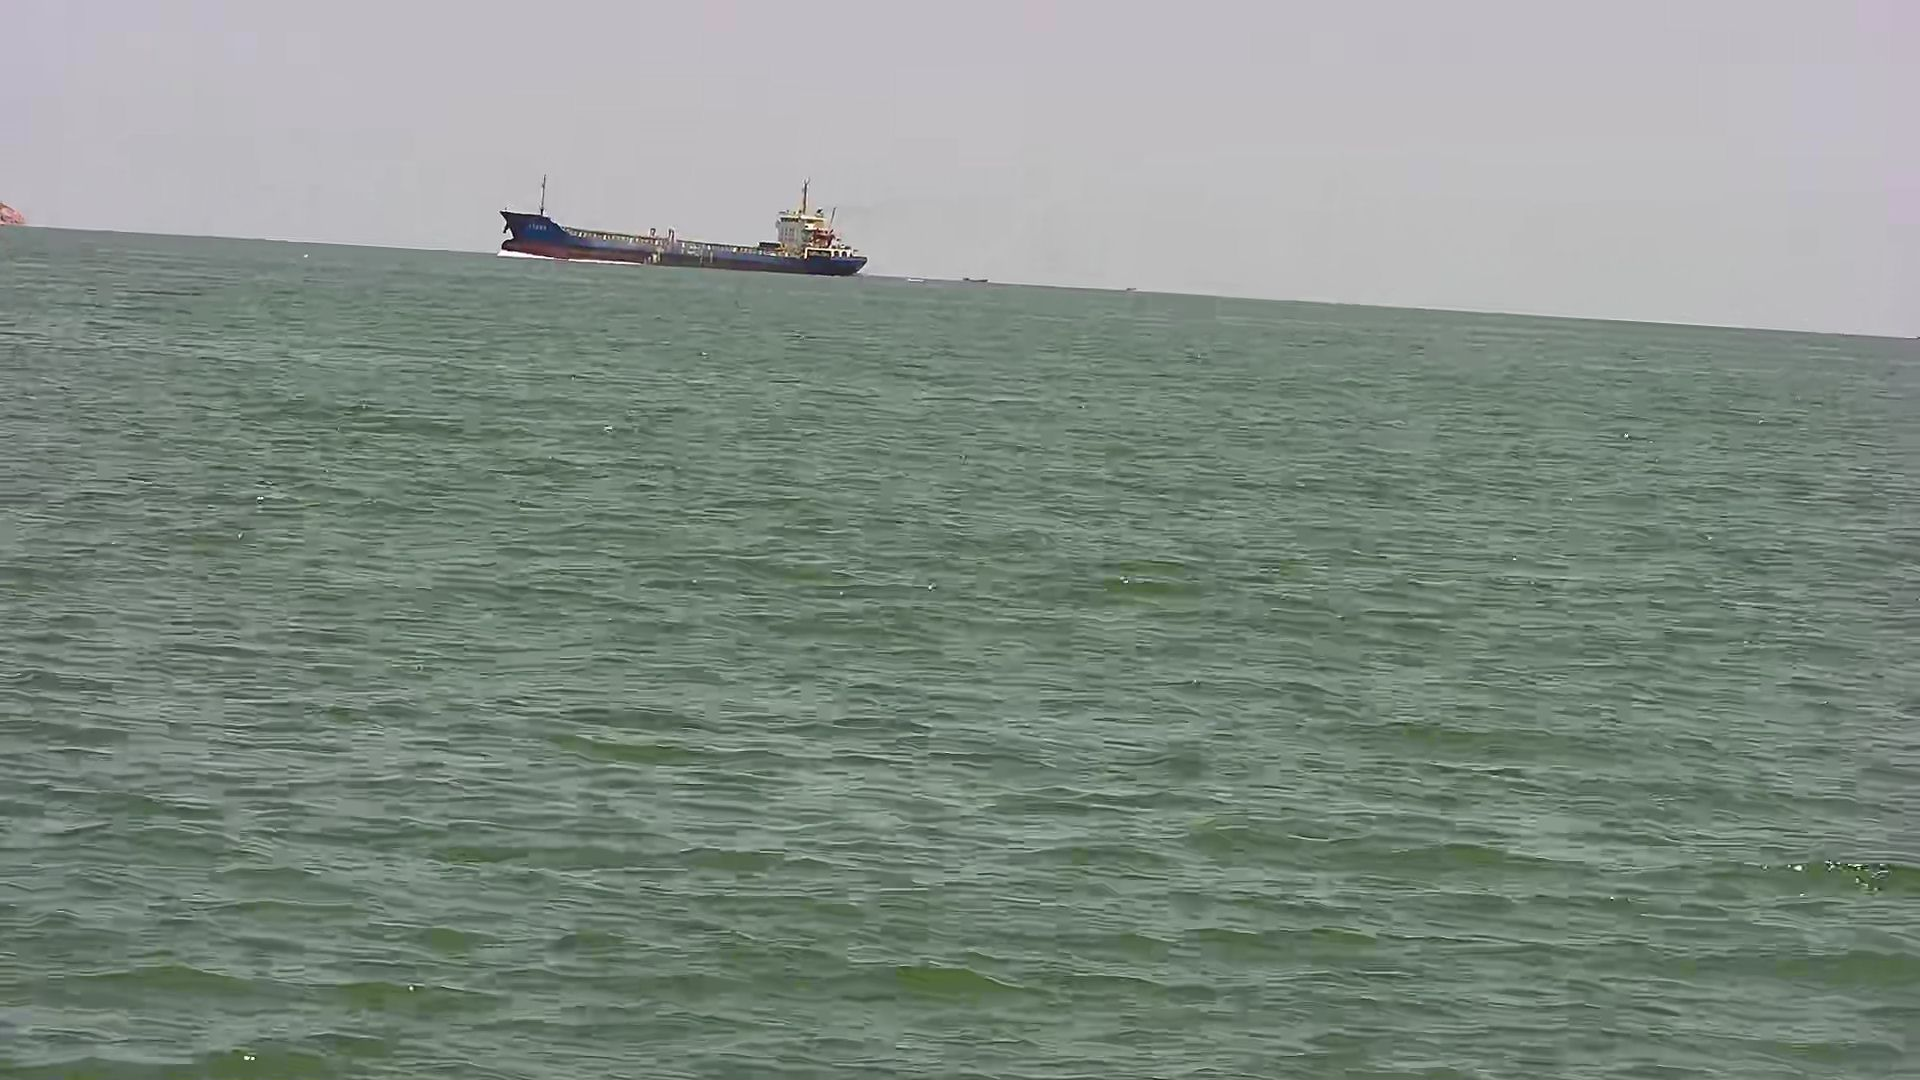ship: (485, 171, 873, 280)
